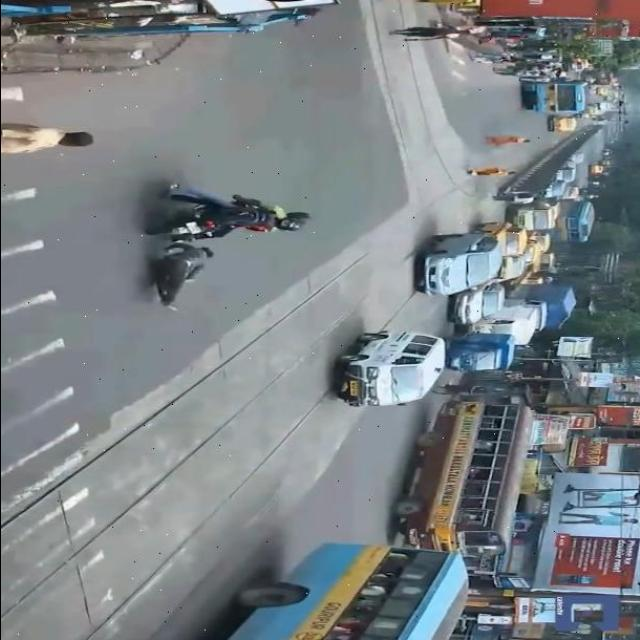accident: (142, 170, 314, 322)
non_accident: (417, 224, 547, 328)
